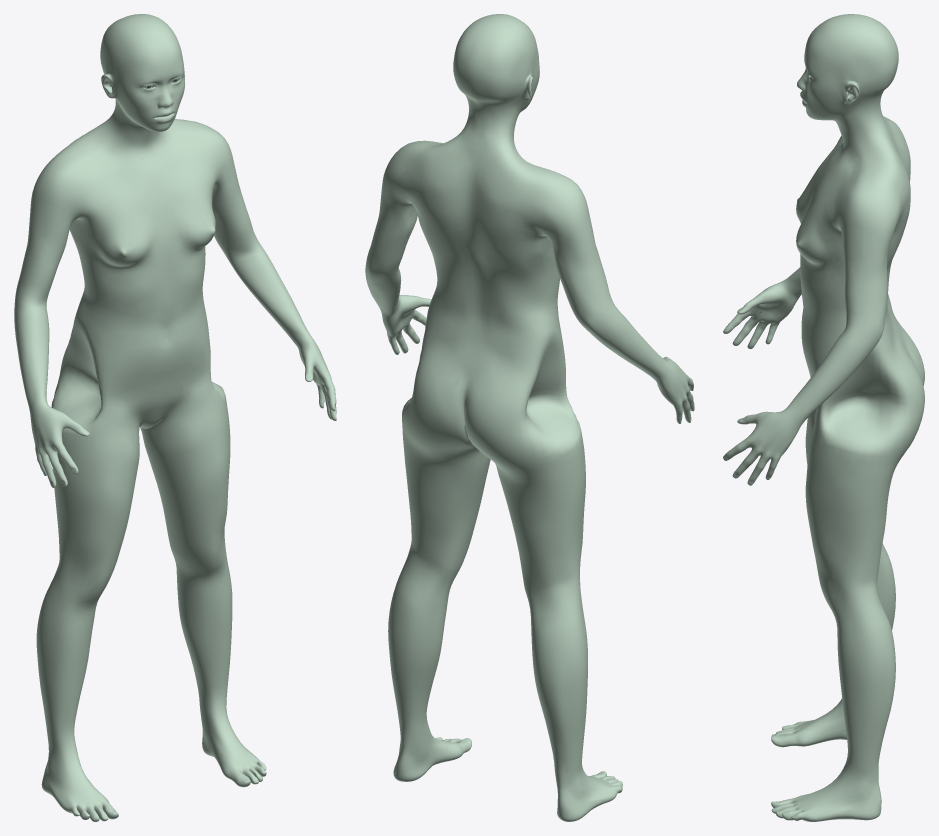
The model's file is adult-female-v2-DK27Bk3z.glb.
3 views of the same model, side by side, from view 1: azimuth 30°, elevation 25°; view 2: azimuth 150°, elevation 25°; view 3: azimuth 270°, elevation 25° (orthographic). The views are drawn at different scales.
Visible parts, largest first — view 1: TeachingBody; view 2: TeachingBody; view 3: TeachingBody.
Boxes of the visible parts, x1=… form: TeachingBody: x1=14, y1=14, x2=336, y2=821; TeachingBody: x1=365, y1=14, x2=694, y2=821; TeachingBody: x1=723, y1=14, x2=924, y2=821.
Size of the model in its own units: 0.6786 by 1.7 by 0.4084.
